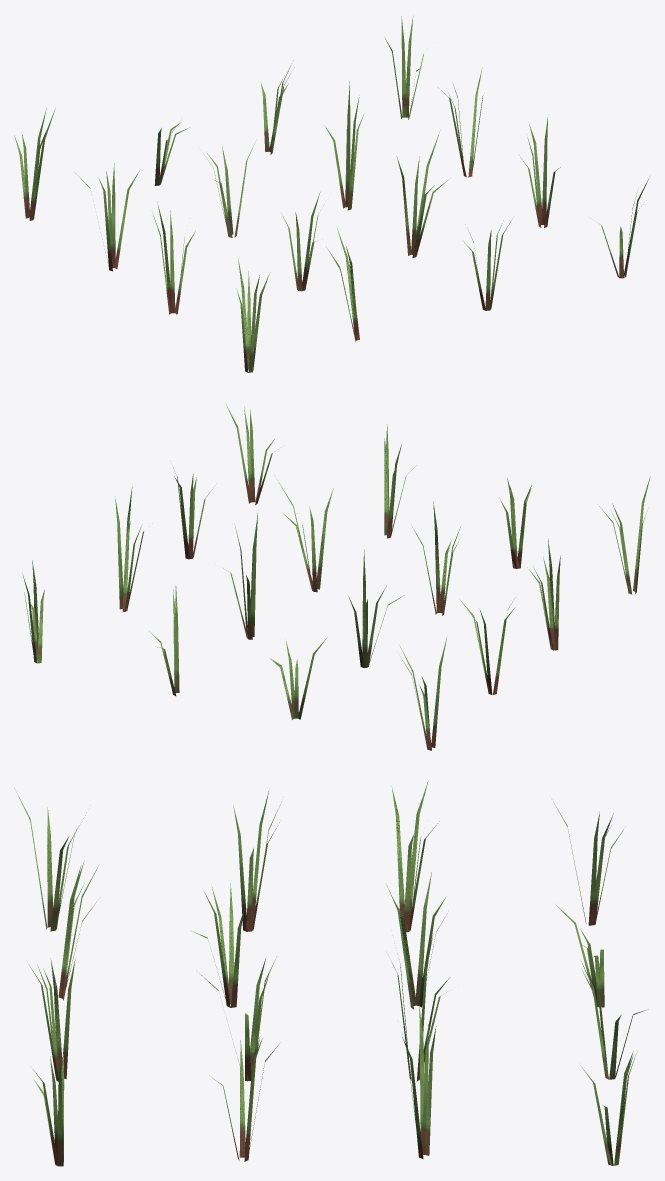
File: RiceTile.fbx
The picture shows the model from 3 angles, top to bottom: view 1: azimuth 30°, elevation 25°; view 2: azimuth 150°, elevation 25°; view 3: azimuth 270°, elevation 25°; orthographic projection. The views are drawn at different scales.
Visible parts, largest first — view 1: RiceTile; view 2: RiceTile; view 3: RiceTile.
Part boxes in pixels (box(x1,y1,x2,y2)): RiceTile: box(14, 16, 648, 372); RiceTile: box(22, 404, 650, 750); RiceTile: box(14, 781, 648, 1166).
Size of the model in its own units: 158 by 41.98 by 156.
1 material, 1 textured.
